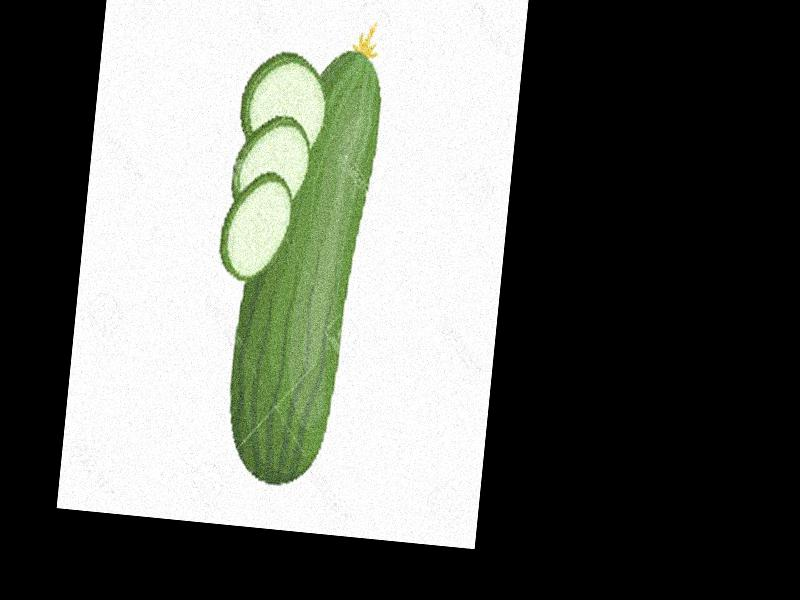Cucumber: (220, 15, 387, 494)
